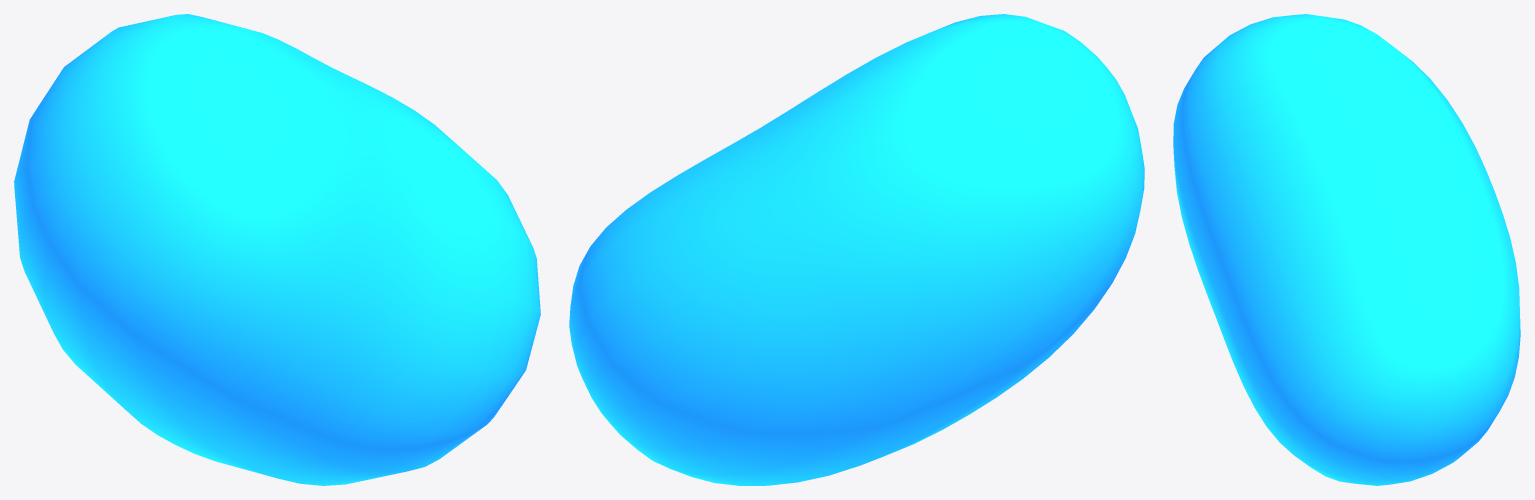
The picture shows the model from 3 angles, left to right: view 1: azimuth 30°, elevation 25°; view 2: azimuth 150°, elevation 25°; view 3: azimuth 270°, elevation 25°; orthographic projection. The views are drawn at different scales.
Parts seen in each view (by area): view 1: JumboJellyBean.045; view 2: JumboJellyBean.045; view 3: JumboJellyBean.045.
Part boxes in pixels (<box>): JumboJellyBean.045: <box>14,14,540,485</box>; JumboJellyBean.045: <box>569,14,1144,485</box>; JumboJellyBean.045: <box>1173,14,1520,485</box>.
Size of the model in its own units: 1.03 by 0.9389 by 0.7997.
